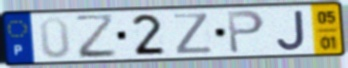0: (38, 15, 72, 61)
2: (129, 13, 168, 57)
J: (275, 9, 307, 52)
P: (225, 8, 267, 55)
Z: (72, 12, 120, 60), (172, 12, 216, 56)
